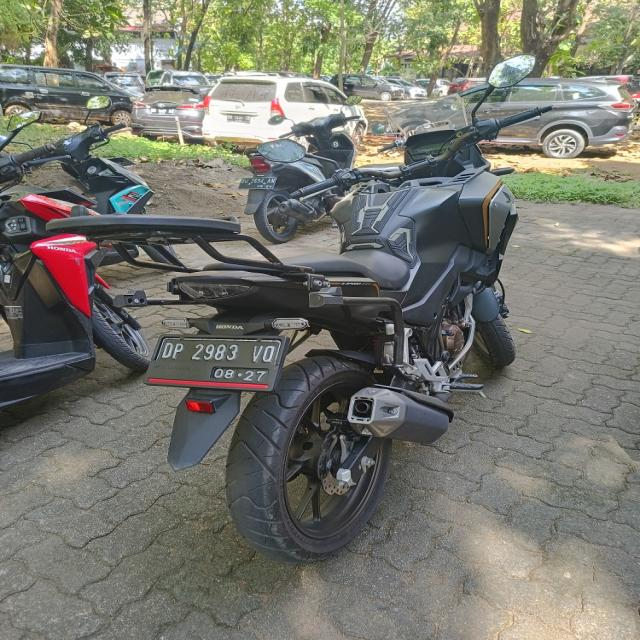plates: (145, 322, 280, 394)
